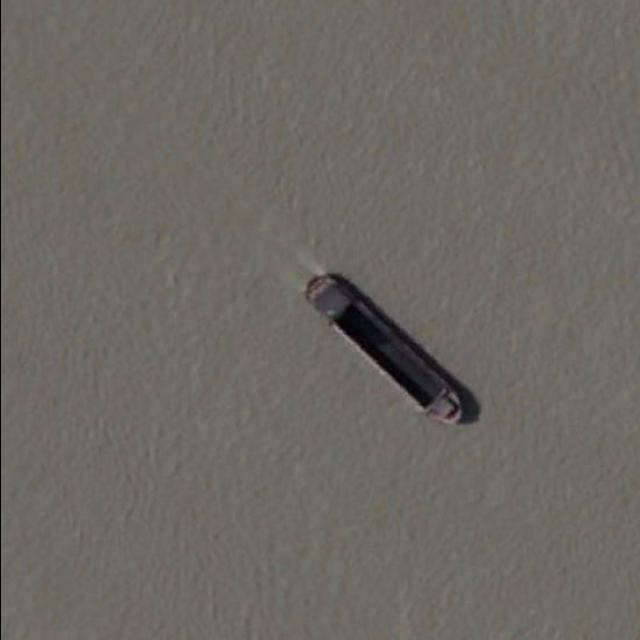ship: (302, 272, 470, 431)
